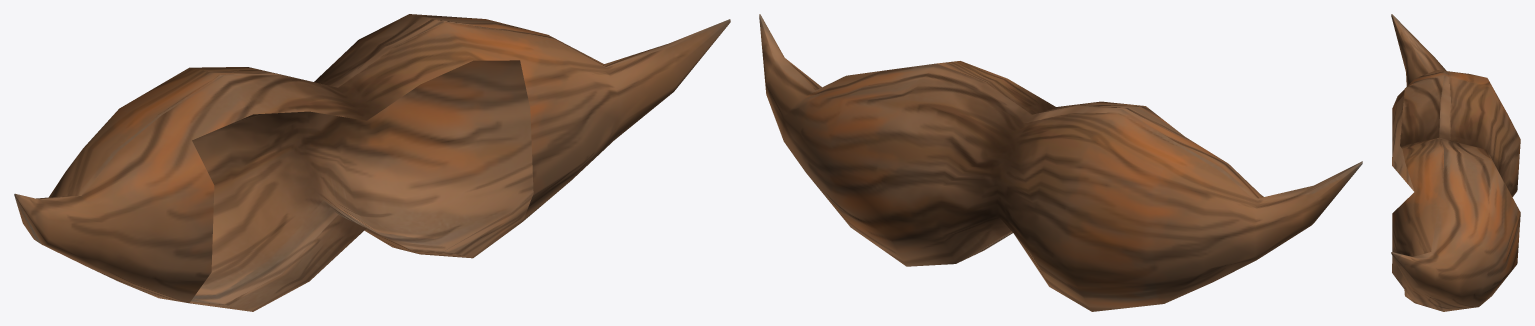
File: Props_Moustache.fbx
3 renders of one model, left to right at view 1: azimuth 30°, elevation 25°; view 2: azimuth 150°, elevation 25°; view 3: azimuth 270°, elevation 25°, orthographic. The views are drawn at different scales.
Visible parts, largest first — view 1: Moustache; view 2: Moustache; view 3: Moustache.
Part boxes in pixels (x1,y1,x2,y2): Moustache: (14, 14, 730, 311); Moustache: (759, 14, 1362, 311); Moustache: (1391, 14, 1520, 311).
Bounding box in the file's own units: 10.44 × 3.19 × 2.4.
